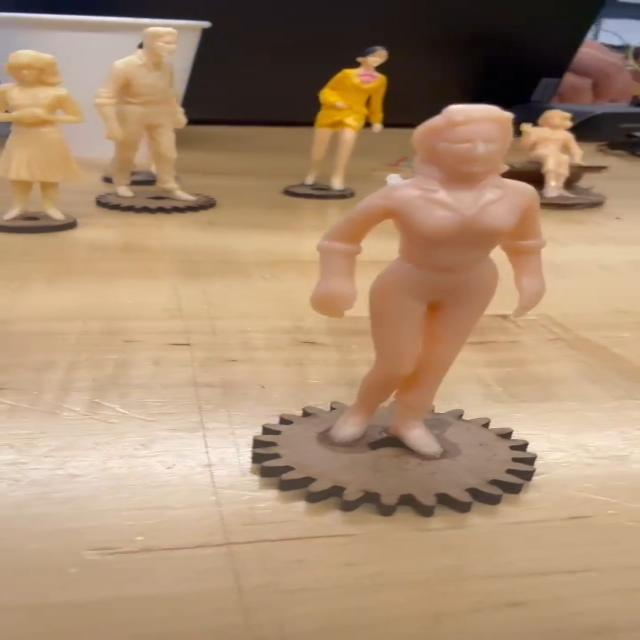Unauthorized: (288, 69, 583, 477)
